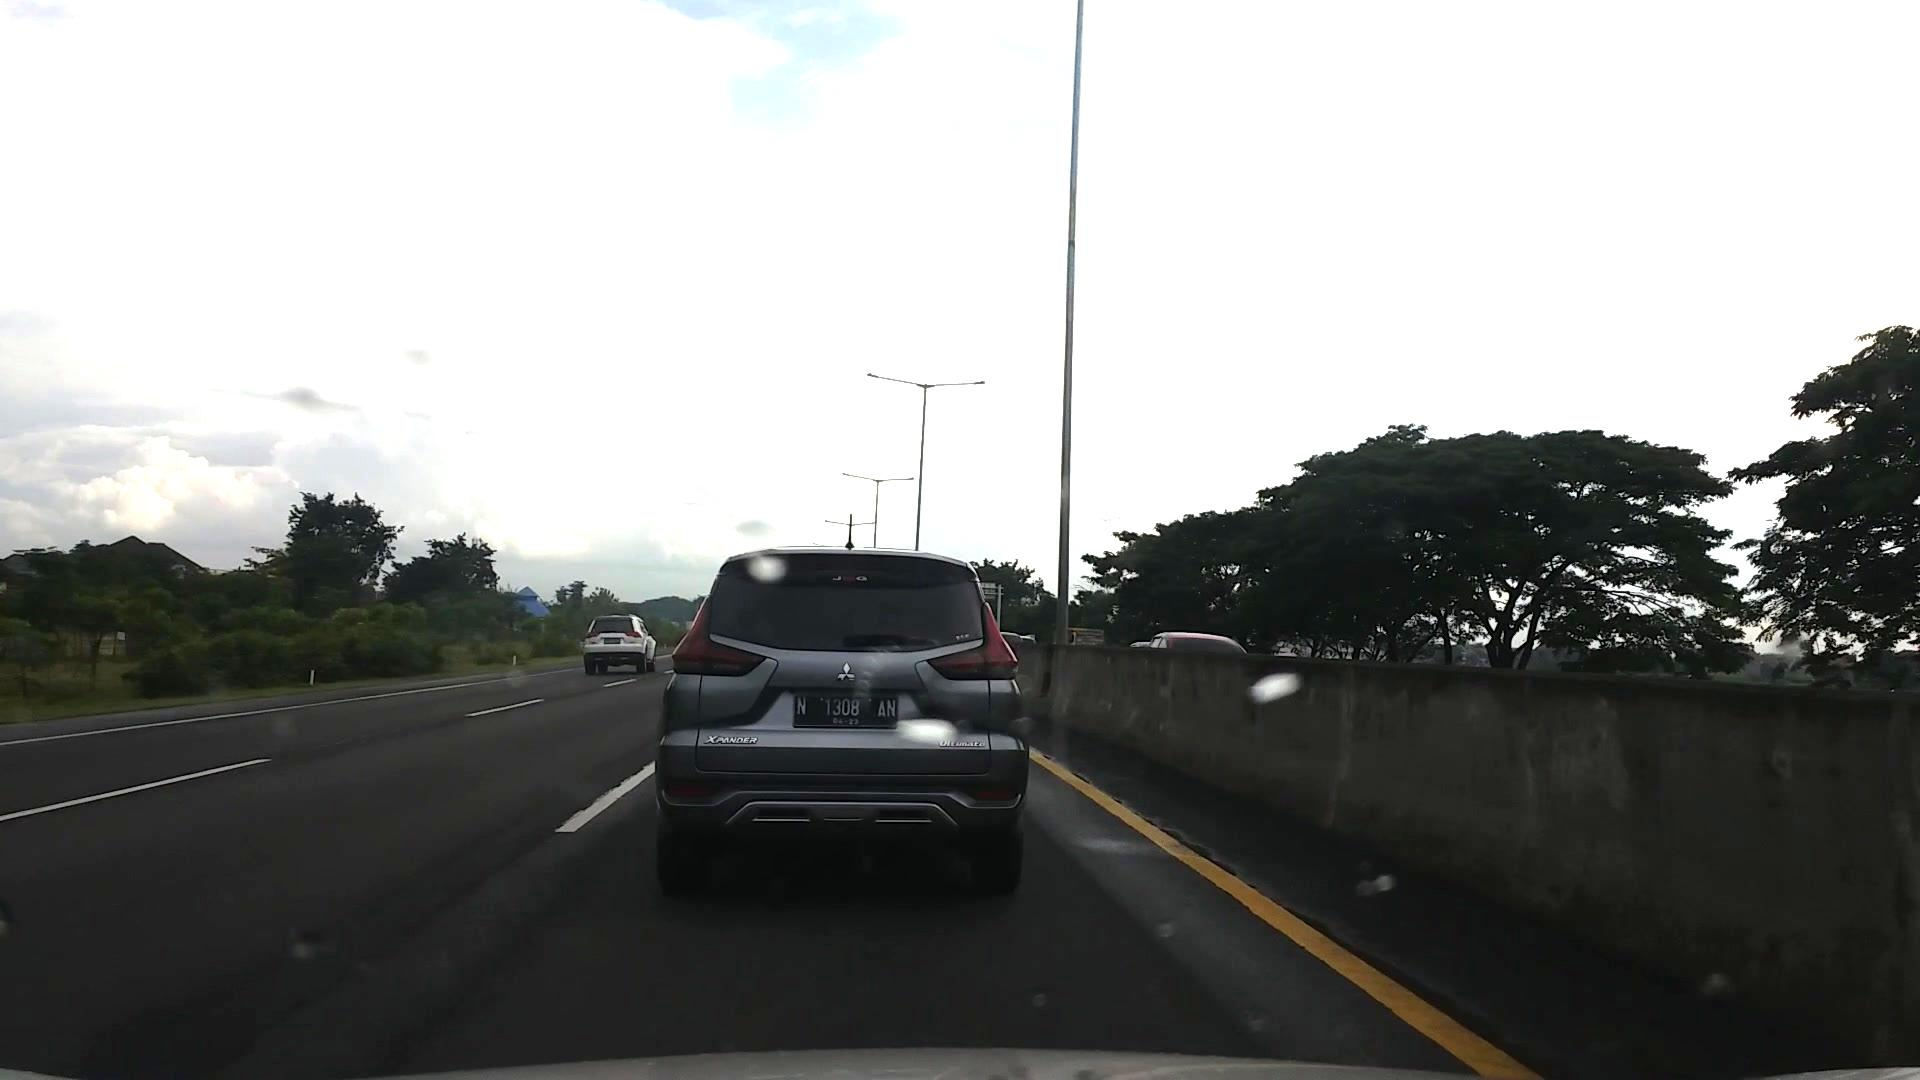plate_positive: (793, 694, 899, 729)
